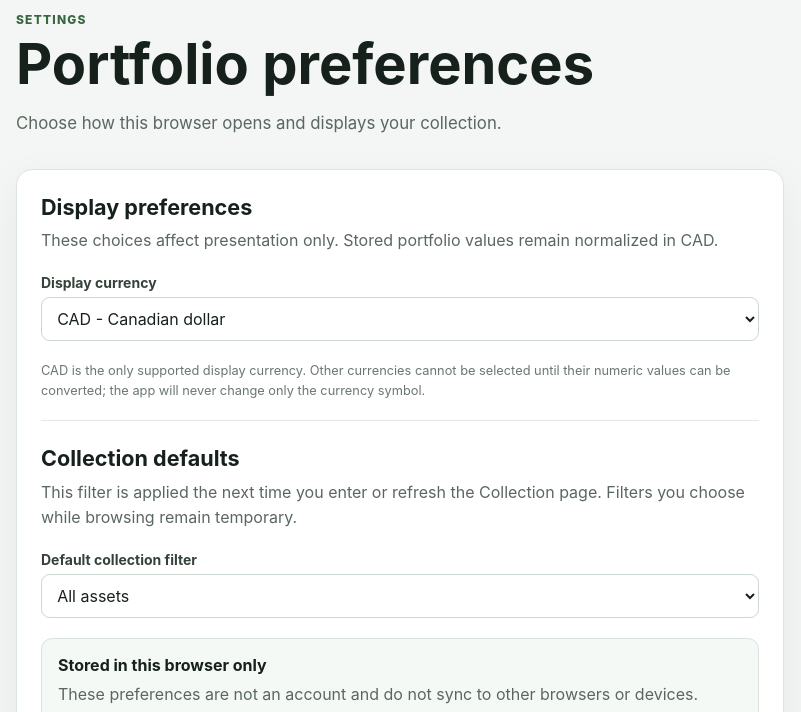
Test: SettingsPage › saves the selected collection default and keeps unsupported currencies disabled
Select "Sealed products" in the dropdown labelled "Default collection filter" at (400, 596), box [41,574,759,618]
(page scrolled)
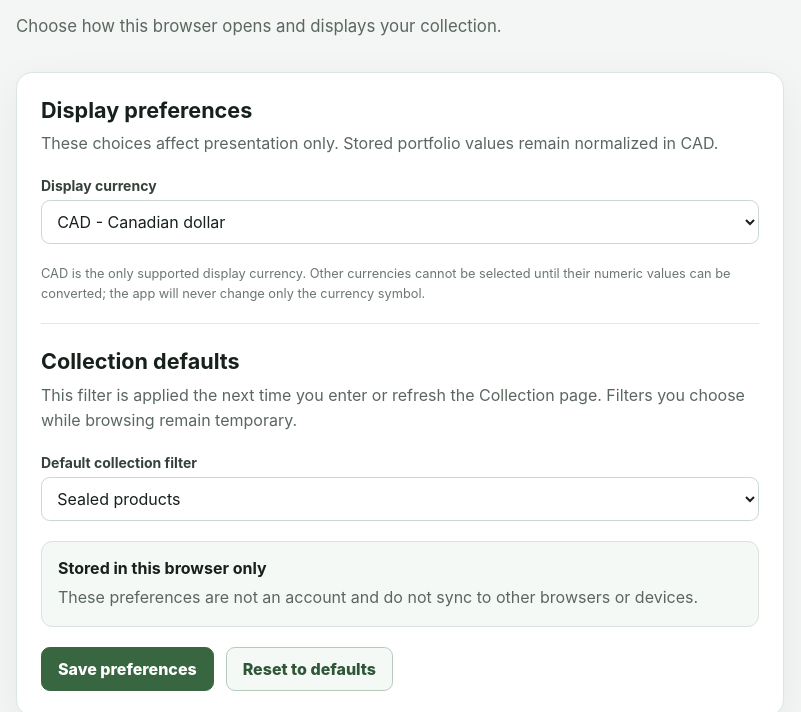
Click the button "Save preferences" at (127, 669), box [41,647,214,691]
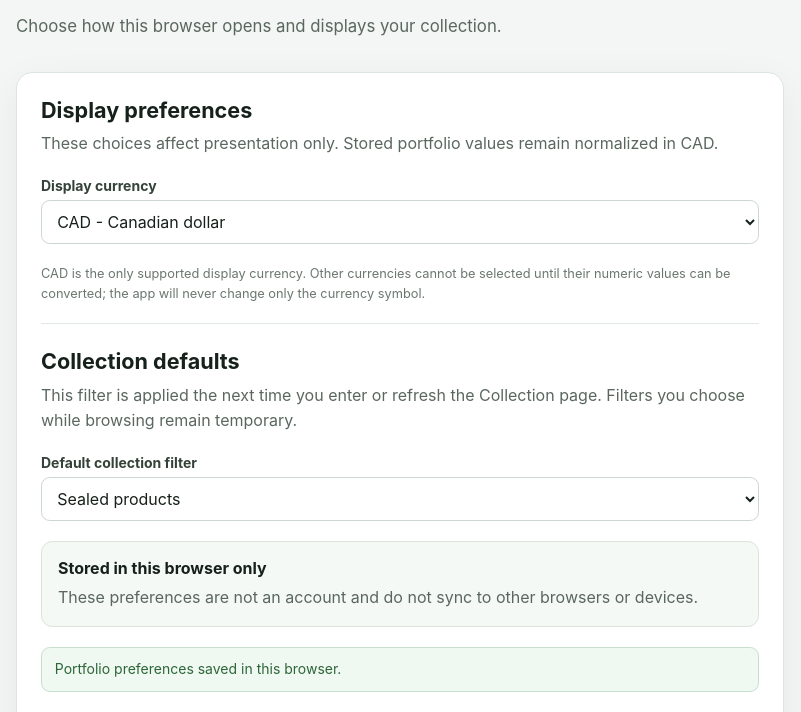
Expected: the message shows "saved", [55,660,341,677]
